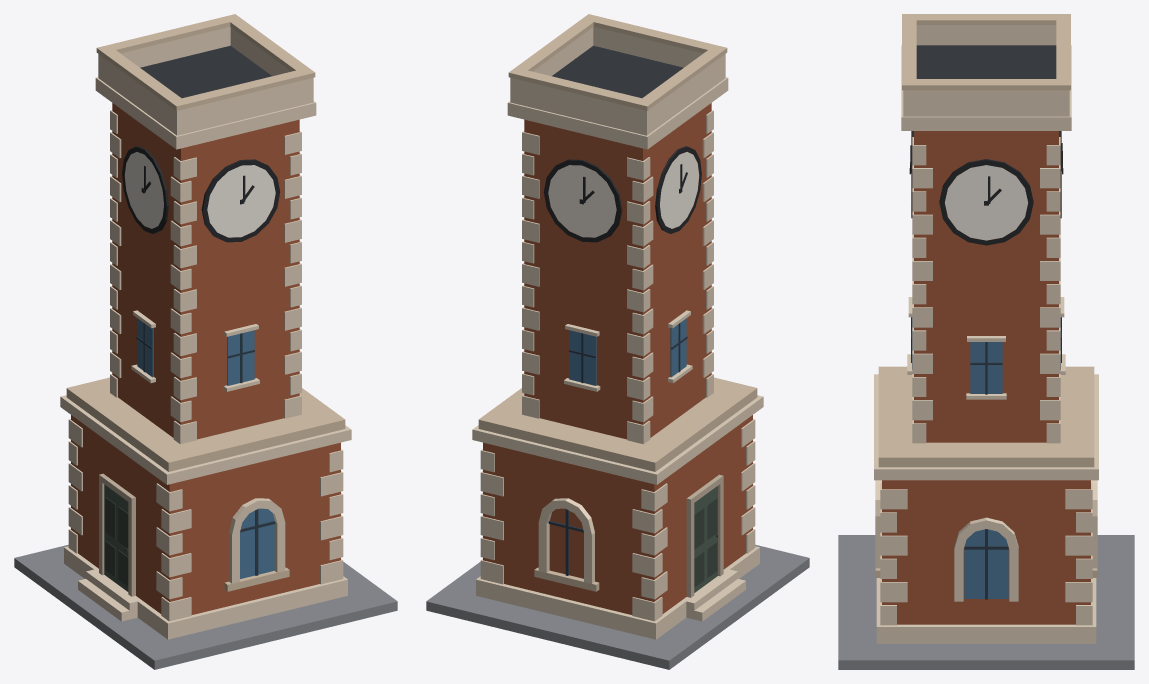
File: tower clock.fbx
The picture shows the model from 3 angles, left to right: view 1: azimuth 30°, elevation 25°; view 2: azimuth 150°, elevation 25°; view 3: azimuth 270°, elevation 25°; orthographic projection. The views are drawn at different scales.
Parts seen in each view (by area): view 1: Base_Quoins_FL; view 2: Base_Quoins_FL; view 3: Base_Quoins_FL.
Boxes of the visible parts, x1,y1,x2,y2 form: Base_Quoins_FL: [14, 14, 397, 669]; Base_Quoins_FL: [426, 14, 809, 669]; Base_Quoins_FL: [838, 14, 1134, 669].
Size of the model in its own units: 440 by 914 by 440.
